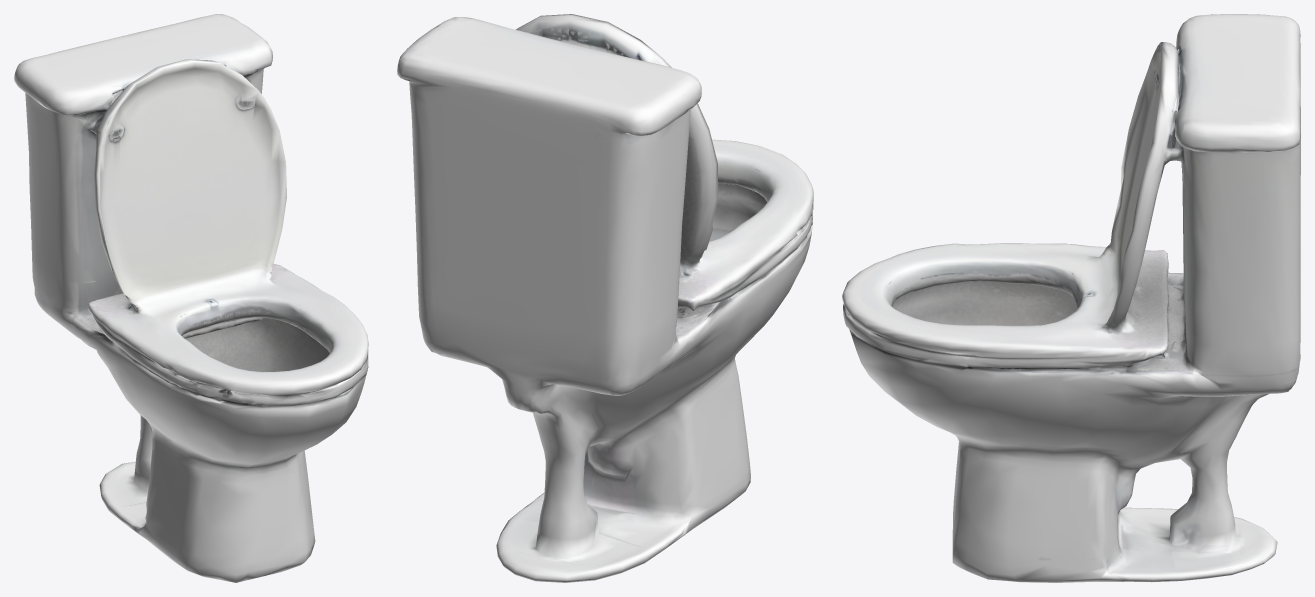
File: toilet.glb
3 views of the same model, side by side, from view 1: azimuth 30°, elevation 25°; view 2: azimuth 150°, elevation 25°; view 3: azimuth 270°, elevation 25° (orthographic). The views are drawn at different scales.
Size of the model in its own units: 1.05 by 1.99 by 1.67.
Materials: 1 (1 with a texture image).
